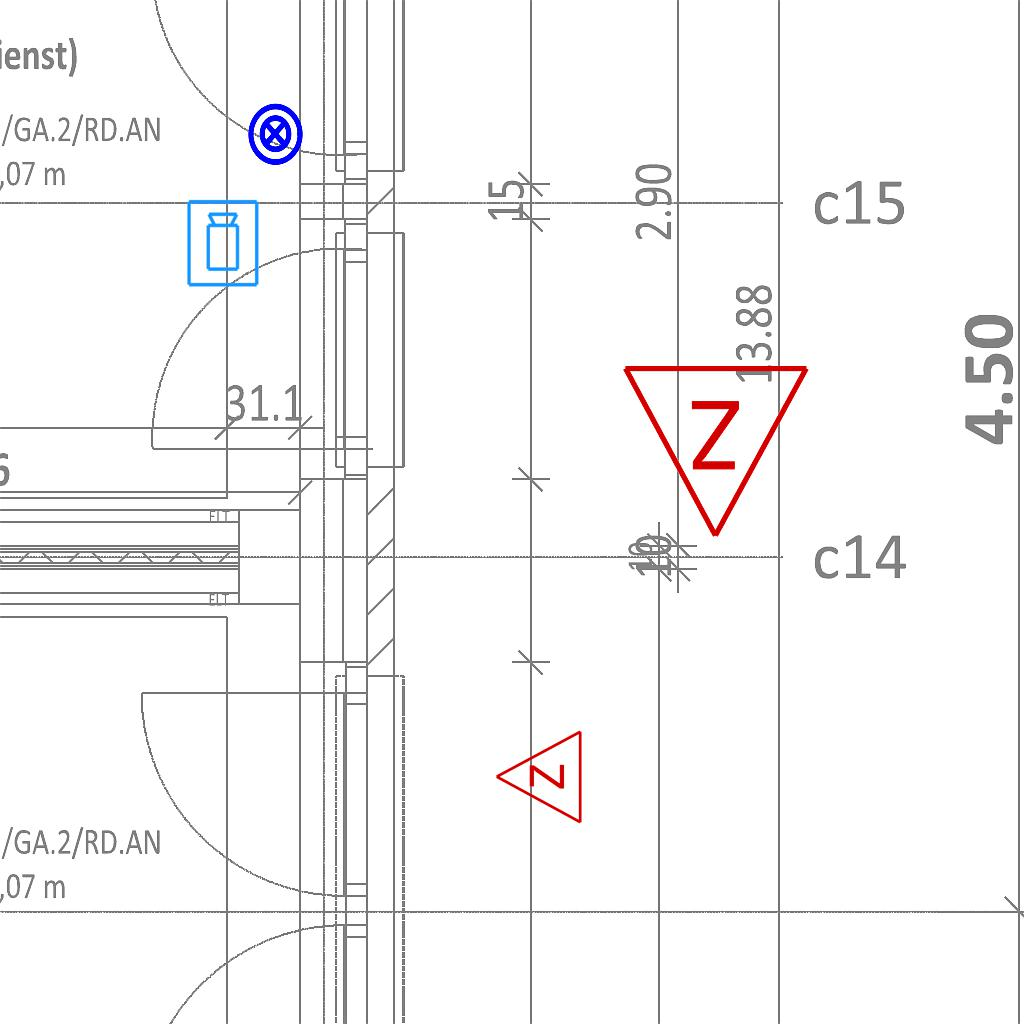KFO_Kamera_mit_Festobjektiv: (185, 198, 262, 289)
Taster_beleuchtet: (242, 101, 308, 167)
Zimmersignalleuchte: (620, 351, 816, 551), (489, 729, 589, 827)
